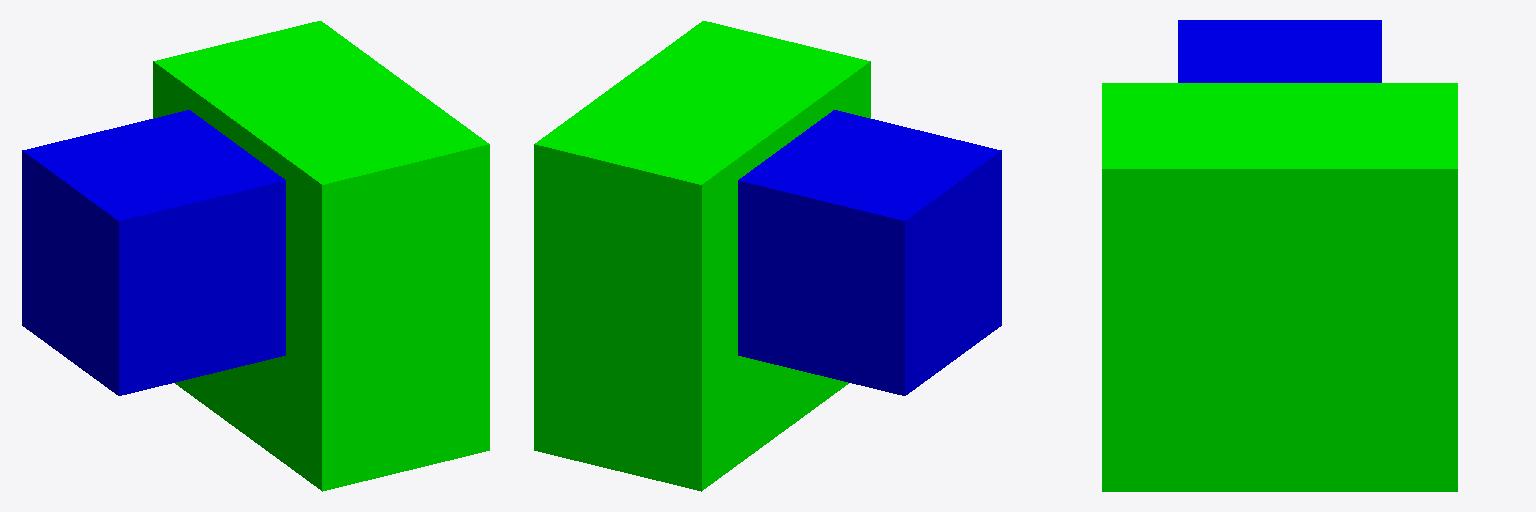
URDF robot description (robot):
<robot name = "robot">
    <link name="root">
        <inertial>
            <origin xyz="0.0 0.0 1.5" rpy="0 0 0"/>
            <mass value="1" />
            <inertia ixx="100" ixy="0" ixz="0" iyy="100" iyz="0" izz="100" />
        </inertial>
        <visual>
            <origin xyz="0.0 0.0 1.5" rpy="0 0 0"/>
            <geometry>
                <box size="0 0 0.0001" />
            </geometry>
            <material name="Green">
                <color rgba="0 1.0 0.0 1.0"/>
            </material>
        </visual>
        <collision>
            <origin xyz="0.0 0.0 1.5" rpy="0 0 0"/>
            <geometry>
                <box size="0 0 0.0001" />
            </geometry>
        </collision>
    </link>
    <joint name="root_000" type="revolute">
       <parent link="root"/>
       <child  link="000"/>
       <origin rpy="0 0 0" xyz="0.0 0.0 1.5" />
     <axis xyz="1 0 0"/>
       <limit effort="0.0" lower="-3.14159" upper="3.14159" velocity="0.0"/>
    </joint>
    <link name="000">
        <inertial>
            <origin xyz="0.0 0.0 -0.1" rpy="0 0 0"/>
            <mass value="1" />
            <inertia ixx="100" ixy="0" ixz="0" iyy="100" iyz="0" izz="100" />
        </inertial>
        <visual>
            <origin xyz="0.0 0.0 -0.1" rpy="0 0 0"/>
            <geometry>
                <box size="0.4 0.4 0.2" />
            </geometry>
            <material name="Blue">
                <color rgba="0 0.0 1.0 1.0"/>
            </material>
        </visual>
        <collision>
            <origin xyz="0.0 0.0 -0.1" rpy="0 0 0"/>
            <geometry>
                <box size="0.4 0.4 0.2" />
            </geometry>
        </collision>
    </link>
    <joint name="000_010" type="revolute">
       <parent link="000"/>
       <child  link="010"/>
       <origin rpy="0 0 0" xyz="0.0 0.0 -0.2" />
     <axis xyz="0 0 1"/>
       <limit effort="0.0" lower="-3.14159" upper="3.14159" velocity="0.0"/>
    </joint>
    <link name="010">
        <inertial>
            <origin xyz="0.0 0.0 -0.1" rpy="0 0 0"/>
            <mass value="1" />
            <inertia ixx="100" ixy="0" ixz="0" iyy="100" iyz="0" izz="100" />
        </inertial>
        <visual>
            <origin xyz="0.0 0.0 -0.1" rpy="0 0 0"/>
            <geometry>
                <box size="0.4 0.4 0.2" />
            </geometry>
            <material name="Blue">
                <color rgba="0 0.0 1.0 1.0"/>
            </material>
        </visual>
        <collision>
            <origin xyz="0.0 0.0 -0.1" rpy="0 0 0"/>
            <geometry>
                <box size="0.4 0.4 0.2" />
            </geometry>
        </collision>
    </link>
    <joint name="010_010-100" type="revolute">
       <parent link="010"/>
       <child  link="010-100"/>
       <origin rpy="0 0 0" xyz="0.2 0.0 -0.1" />
     <axis xyz="1 0 0"/>
       <limit effort="0.0" lower="-3.14159" upper="3.14159" velocity="0.0"/>
    </joint>
    <link name="010-100">
        <inertial>
            <origin xyz="0.05 0.0 -0.0" rpy="0 0 0"/>
            <mass value="1" />
            <inertia ixx="100" ixy="0" ixz="0" iyy="100" iyz="0" izz="100" />
        </inertial>
        <visual>
            <origin xyz="0.05 0.0 -0.0" rpy="0 0 0"/>
            <geometry>
                <box size="0.1 0.7 0.7" />
            </geometry>
            <material name="Green">
                <color rgba="0 1.0 0.0 1.0"/>
            </material>
        </visual>
        <collision>
            <origin xyz="0.05 0.0 -0.0" rpy="0 0 0"/>
            <geometry>
                <box size="0.1 0.7 0.7" />
            </geometry>
        </collision>
    </link>
    <joint name="010-100_010-110" type="revolute">
       <parent link="010-100"/>
       <child  link="010-110"/>
       <origin rpy="0 0 0" xyz="0.1 0.0 -0.0" />
     <axis xyz="1 0 0"/>
       <limit effort="0.0" lower="-3.14159" upper="3.14159" velocity="0.0"/>
    </joint>
    <link name="010-110">
        <inertial>
            <origin xyz="0.05 0.0 -0.0" rpy="0 0 0"/>
            <mass value="1" />
            <inertia ixx="100" ixy="0" ixz="0" iyy="100" iyz="0" izz="100" />
        </inertial>
        <visual>
            <origin xyz="0.05 0.0 -0.0" rpy="0 0 0"/>
            <geometry>
                <box size="0.1 0.7 0.7" />
            </geometry>
            <material name="Green">
                <color rgba="0 1.0 0.0 1.0"/>
            </material>
        </visual>
        <collision>
            <origin xyz="0.05 0.0 -0.0" rpy="0 0 0"/>
            <geometry>
                <box size="0.1 0.7 0.7" />
            </geometry>
        </collision>
    </link>
    <joint name="010-110_010-120" type="revolute">
       <parent link="010-110"/>
       <child  link="010-120"/>
       <origin rpy="0 0 0" xyz="0.1 0.0 -0.0" />
     <axis xyz="1 0 0"/>
       <limit effort="0.0" lower="-3.14159" upper="3.14159" velocity="0.0"/>
    </joint>
    <link name="010-120">
        <inertial>
            <origin xyz="0.05 0.0 -0.0" rpy="0 0 0"/>
            <mass value="1" />
            <inertia ixx="100" ixy="0" ixz="0" iyy="100" iyz="0" izz="100" />
        </inertial>
        <visual>
            <origin xyz="0.05 0.0 -0.0" rpy="0 0 0"/>
            <geometry>
                <box size="0.1 0.7 0.7" />
            </geometry>
            <material name="Green">
                <color rgba="0 1.0 0.0 1.0"/>
            </material>
        </visual>
        <collision>
            <origin xyz="0.05 0.0 -0.0" rpy="0 0 0"/>
            <geometry>
                <box size="0.1 0.7 0.7" />
            </geometry>
        </collision>
    </link>
    <joint name="010-120_010-130" type="revolute">
       <parent link="010-120"/>
       <child  link="010-130"/>
       <origin rpy="0 0 0" xyz="0.1 0.0 -0.0" />
     <axis xyz="1 0 0"/>
       <limit effort="0.0" lower="-3.14159" upper="3.14159" velocity="0.0"/>
    </joint>
    <link name="010-130">
        <inertial>
            <origin xyz="0.05 0.0 -0.0" rpy="0 0 0"/>
            <mass value="1" />
            <inertia ixx="100" ixy="0" ixz="0" iyy="100" iyz="0" izz="100" />
        </inertial>
        <visual>
            <origin xyz="0.05 0.0 -0.0" rpy="0 0 0"/>
            <geometry>
                <box size="0.1 0.7 0.7" />
            </geometry>
            <material name="Green">
                <color rgba="0 1.0 0.0 1.0"/>
            </material>
        </visual>
        <collision>
            <origin xyz="0.05 0.0 -0.0" rpy="0 0 0"/>
            <geometry>
                <box size="0.1 0.7 0.7" />
            </geometry>
        </collision>
    </link>
</robot>

--- What the picture shows (computed from the rendered views, not written in the file) ---
The picture shows the robot from 3 angles, left to right: view 1: azimuth 30°, elevation 25°; view 2: azimuth 150°, elevation 25°; view 3: azimuth 270°, elevation 25°; orthographic projection.
Robot: robot — 7 links, 6 joints (6 revolute); root link root; default pose: all joints at 0.
Links seen in each view (by area): view 1: 010-100, 000, 010, 010-110, 010-120, 010-130; view 2: 010-100, 000, 010, 010-110, 010-120, 010-130; view 3: 010-130, 000, 010-100, 010-120, 010-110.
Link boxes in pixels (x1,y1,x2,y2): 010-100: (153, 51, 363, 491); 000: (22, 110, 285, 308); 010: (22, 238, 285, 395); 010-110: (196, 41, 405, 480); 010-120: (238, 31, 447, 470); 010-130: (280, 21, 489, 460); 010-100: (660, 51, 870, 491); 000: (738, 110, 1001, 308); 010: (738, 238, 1001, 395); 010-110: (618, 41, 827, 480); 010-120: (576, 31, 785, 470); 010-130: (534, 21, 743, 460); 010-130: (1102, 148, 1457, 491); 000: (1178, 20, 1381, 82); 010-100: (1102, 83, 1457, 104); 010-120: (1102, 126, 1457, 147); 010-110: (1102, 105, 1457, 125).
Size in the robot's own frame: 0.8 by 0.7 by 0.7 metres.
Geometry: primitives only (box / cylinder / sphere), no mesh files.